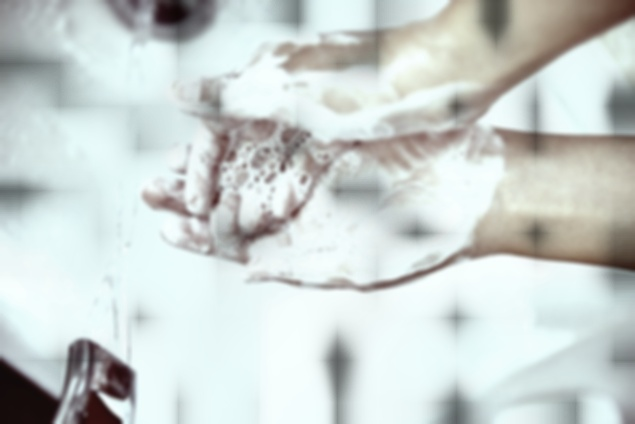washing hand: (42, 27, 531, 405)
